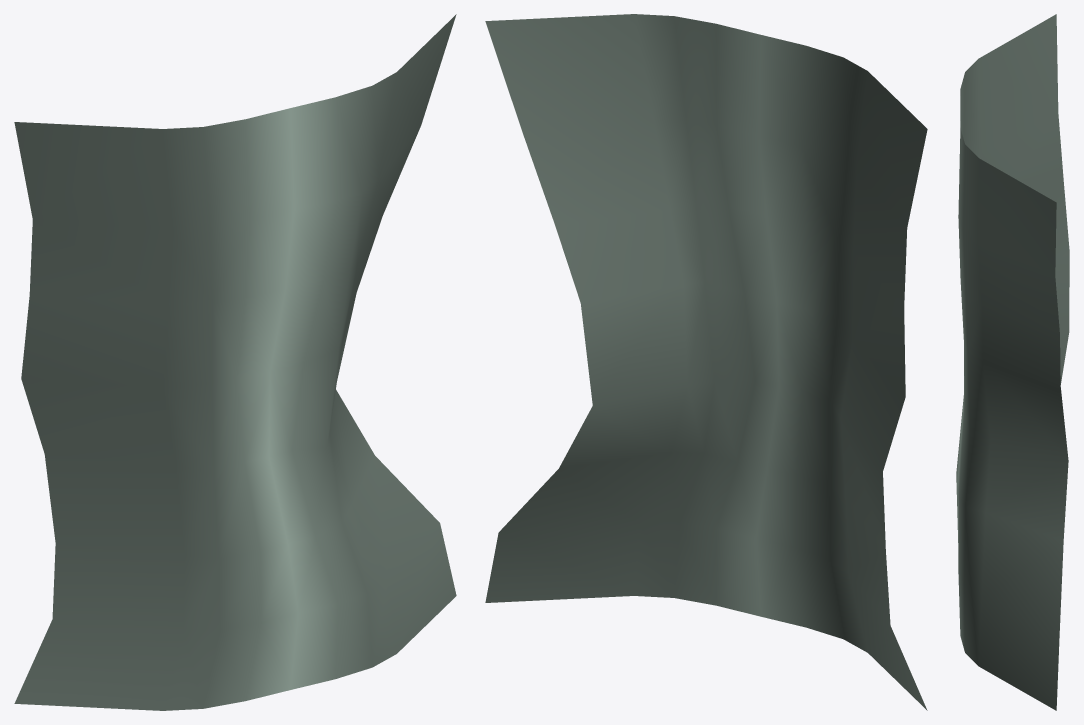
The model's file is Swamp_BarStraightA.glb.
The picture shows the model from 3 angles, left to right: view 1: azimuth 30°, elevation 25°; view 2: azimuth 150°, elevation 25°; view 3: azimuth 270°, elevation 25°; orthographic projection. The views are drawn at different scales.
Parts seen in each view (by area): view 1: MeshNode_0; view 2: MeshNode_0; view 3: MeshNode_0.
Boxes of the visible parts, x1=… form: MeshNode_0: x1=14, y1=14, x2=456, y2=710; MeshNode_0: x1=485, y1=14, x2=927, y2=710; MeshNode_0: x1=956, y1=14, x2=1069, y2=710.
Size of the model in its own units: 102 by 128 by 25.9.
